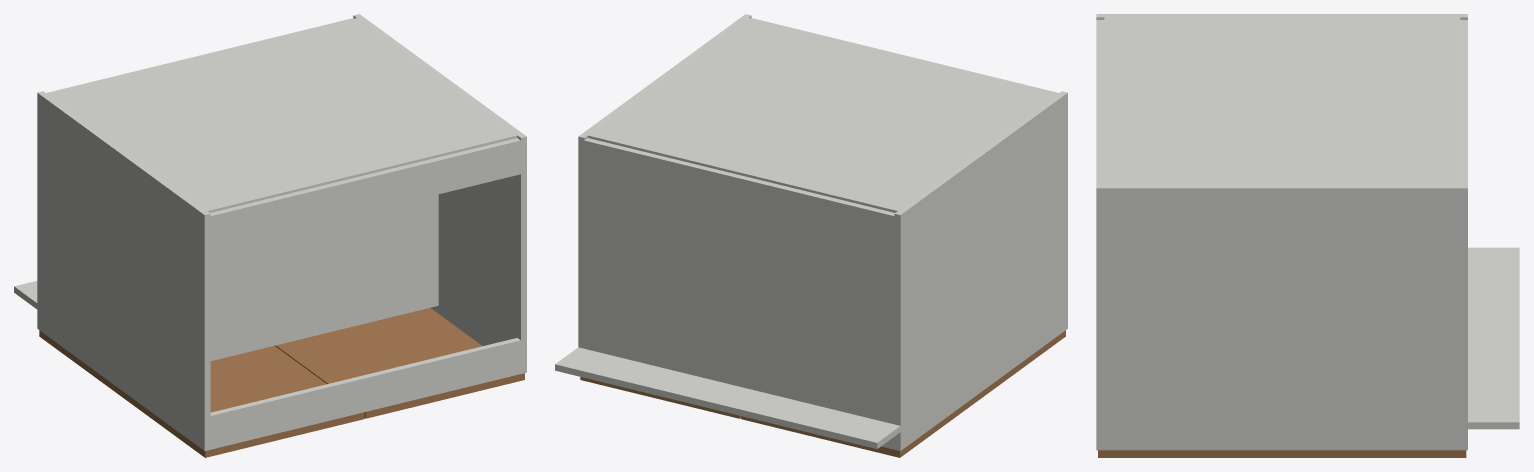
File: M04_base_cabinet.obj
3 renders of one model, left to right at view 1: azimuth 30°, elevation 25°; view 2: azimuth 150°, elevation 25°; view 3: azimuth 270°, elevation 25°, orthographic. The views are drawn at different scales.
Parts seen in each view (by area): view 1: M04_base_cabinet_Fundo, M04_base_cabinet_Lateral_Esquerda, M04_base_cabinet_Prateleira_1, M04_base_cabinet_Lateral_Direita, M04_base_cabinet_Travessa_Traseira, M04_base_cabinet_Travessa_Frontal, M04_base_cabinet_Porta_2, M04_base_cabinet_Porta_1; view 2: M04_base_cabinet_Base, M04_base_cabinet_Fundo, M04_base_cabinet_Lateral_Esquerda, M04_base_cabinet_Rodape, M04_base_cabinet_Lateral_Direita, M04_base_cabinet_Porta_1, M04_base_cabinet_Porta_2; view 3: M04_base_cabinet_Lateral_Direita, M04_base_cabinet_Fundo, M04_base_cabinet_Rodape, M04_base_cabinet_Porta_2, M04_base_cabinet_Lateral_Esquerda, M04_base_cabinet_Travessa_Traseira, M04_base_cabinet_Base.
Boxes of the visible parts, x1,y1,x2,y2 form: M04_base_cabinet_Fundo: (47,18,517,212); M04_base_cabinet_Lateral_Esquerda: (37,91,210,450); M04_base_cabinet_Prateleira_1: (210,194,438,360); M04_base_cabinet_Lateral_Direita: (353,14,526,373); M04_base_cabinet_Travessa_Traseira: (210,138,520,249); M04_base_cabinet_Travessa_Frontal: (210,338,520,449); M04_base_cabinet_Porta_2: (275,308,524,418); M04_base_cabinet_Porta_1: (39,330,364,457); M04_base_cabinet_Base: (584,138,894,449); M04_base_cabinet_Fundo: (588,18,1057,212); M04_base_cabinet_Lateral_Esquerda: (894,91,1067,450); M04_base_cabinet_Rodape: (555,347,900,448); M04_base_cabinet_Lateral_Direita: (578,14,751,348); M04_base_cabinet_Porta_1: (740,330,1065,457); M04_base_cabinet_Porta_2: (580,377,740,418); M04_base_cabinet_Lateral_Direita: (1096,185,1467,450); M04_base_cabinet_Fundo: (1104,17,1460,184); M04_base_cabinet_Rodape: (1468,247,1519,429); M04_base_cabinet_Porta_2: (1098,450,1466,457); M04_base_cabinet_Lateral_Esquerda: (1096,14,1467,19); M04_base_cabinet_Travessa_Traseira: (1096,20,1104,184); M04_base_cabinet_Base: (1460,20,1467,184).
Bounding box in the file's own units: 800 × 598 × 820.
